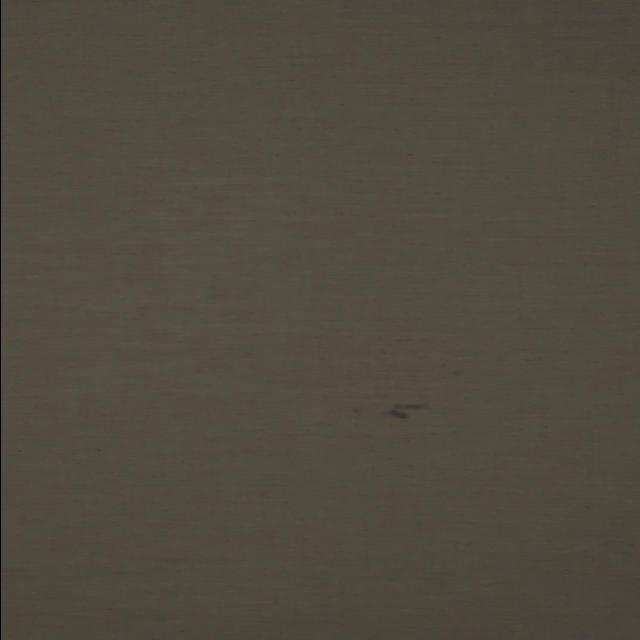dirty: (378, 411, 408, 419), (394, 404, 424, 409), (446, 370, 462, 378), (350, 408, 360, 414)
